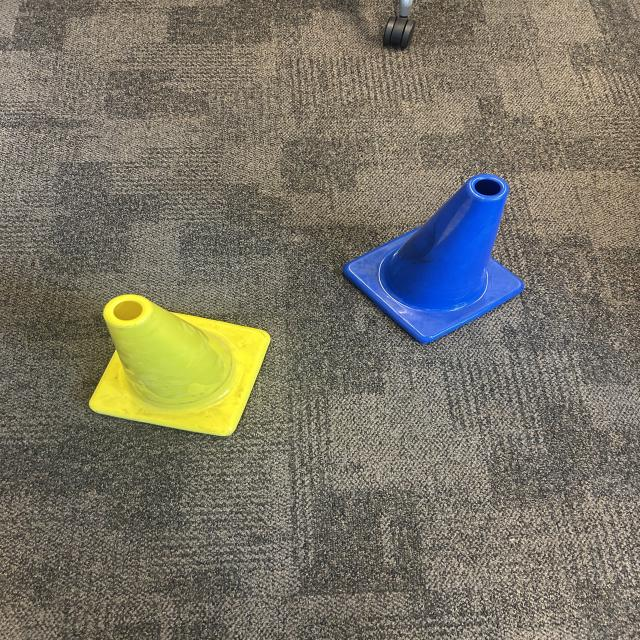blue_cone: (331, 160, 535, 353)
yellow_cone: (63, 286, 289, 444)
